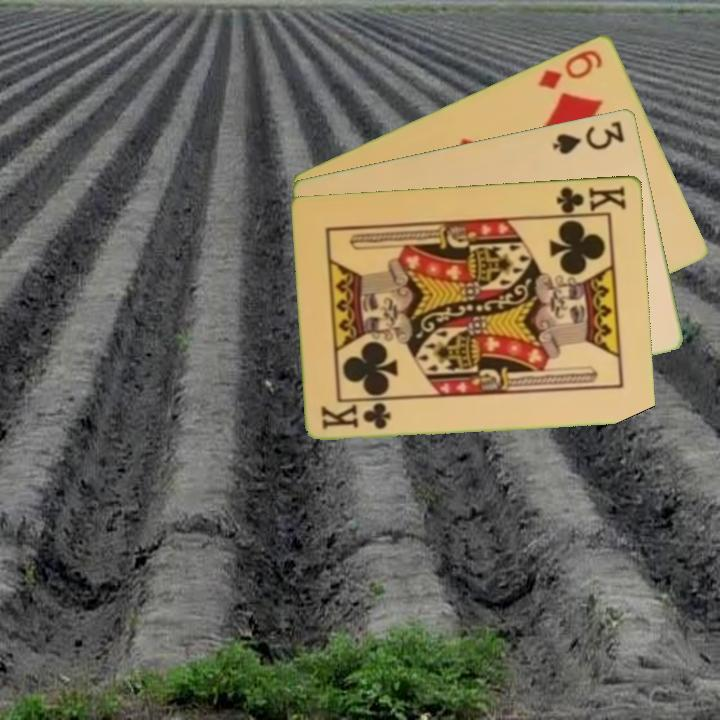3s: (549, 116, 628, 157)
6d: (535, 45, 606, 92)
Kc: (549, 182, 630, 218), (318, 400, 394, 432)
